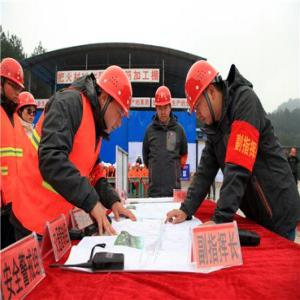red: (95, 62, 133, 137), (185, 58, 225, 126), (2, 57, 24, 104), (18, 90, 38, 126), (155, 86, 173, 123)
